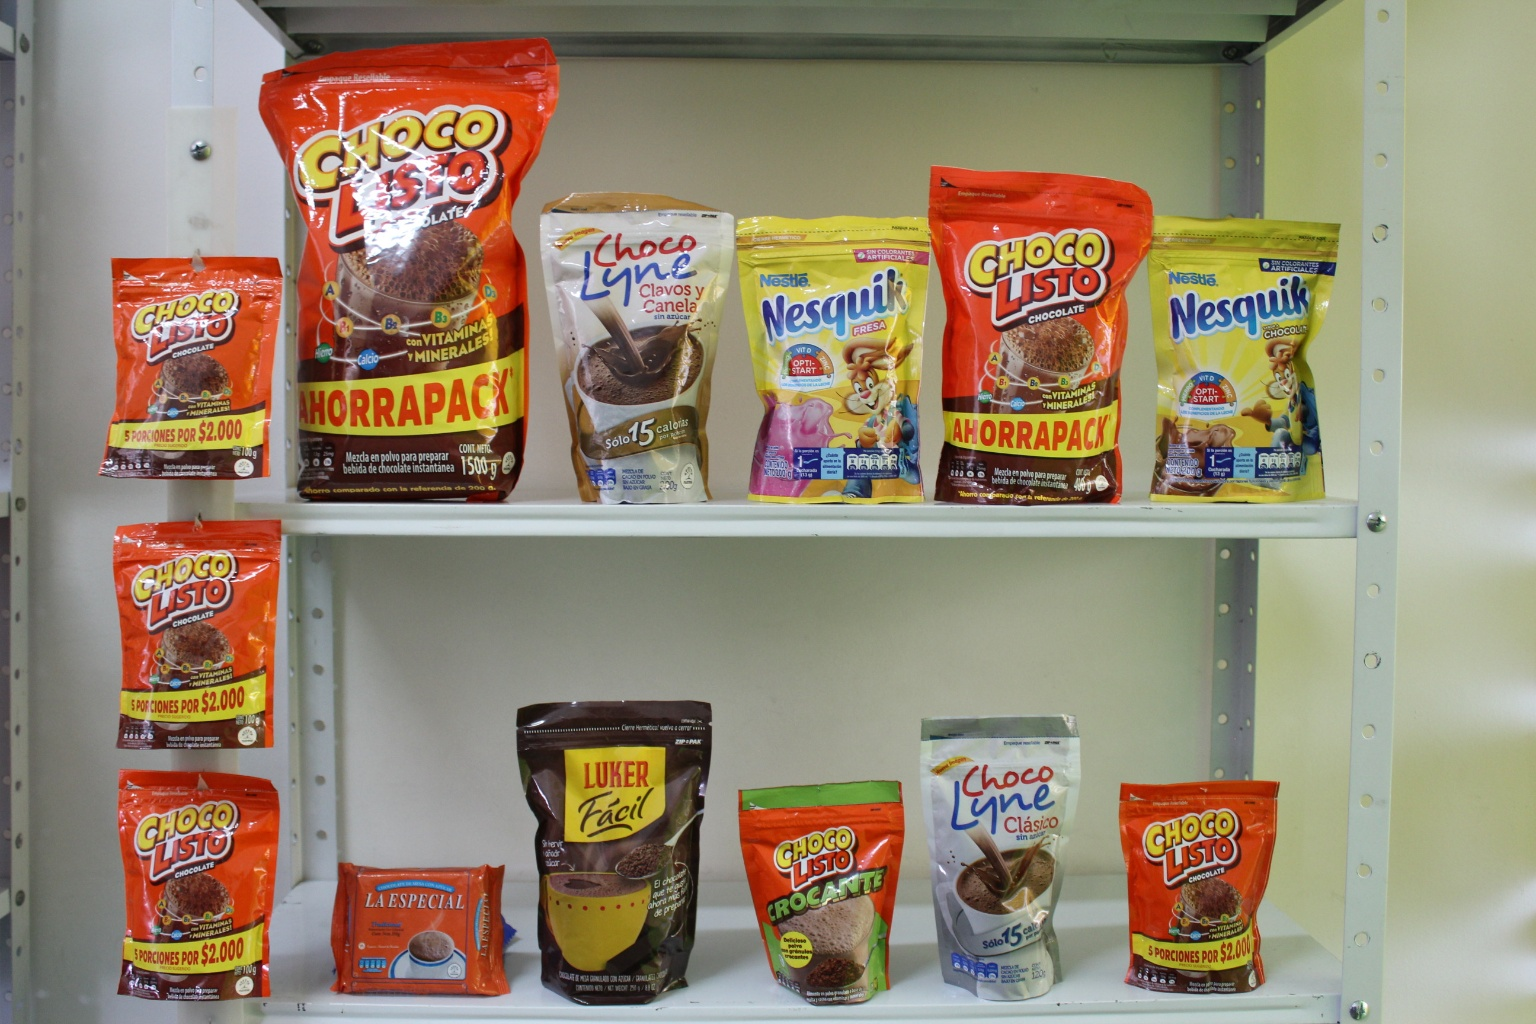COL0170102DYP10000: (733, 779, 921, 1006)
COL0170103DYP1,500: (248, 43, 549, 507)
COL0170103DYP10000: (107, 250, 280, 487)
COL0170103DYP40000: (925, 147, 1155, 504)
COL0170303DYP20000: (1147, 207, 1361, 512)
COL0170305DYP20000: (727, 199, 941, 504)
